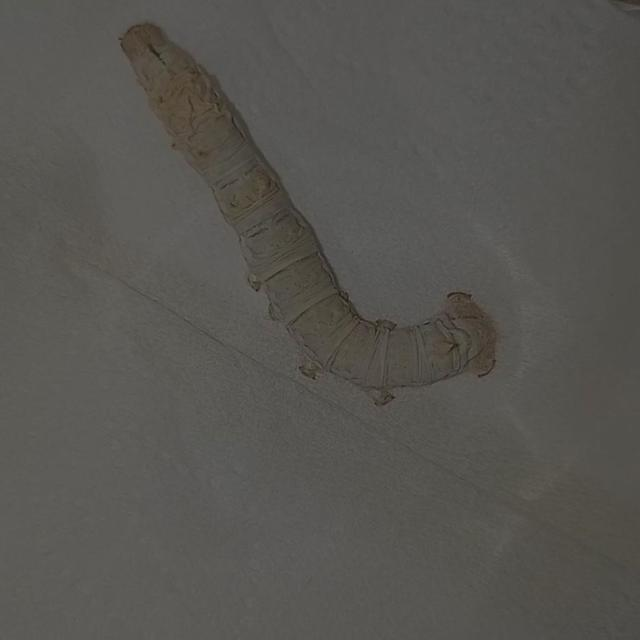Healthy: (104, 8, 519, 436)
